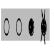correct: (28, 16, 35, 39)
not correct: (40, 8, 47, 46)
